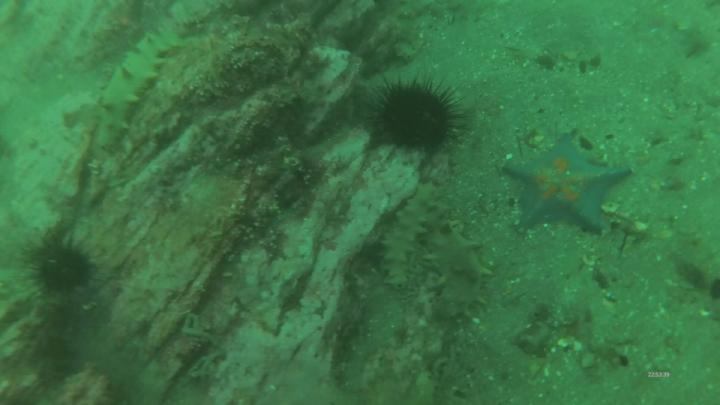echinus: (373, 82, 457, 151), (40, 243, 91, 294)
holothurian: (102, 32, 172, 141), (436, 230, 484, 322), (384, 184, 429, 281)
starfish: (504, 135, 629, 231)
